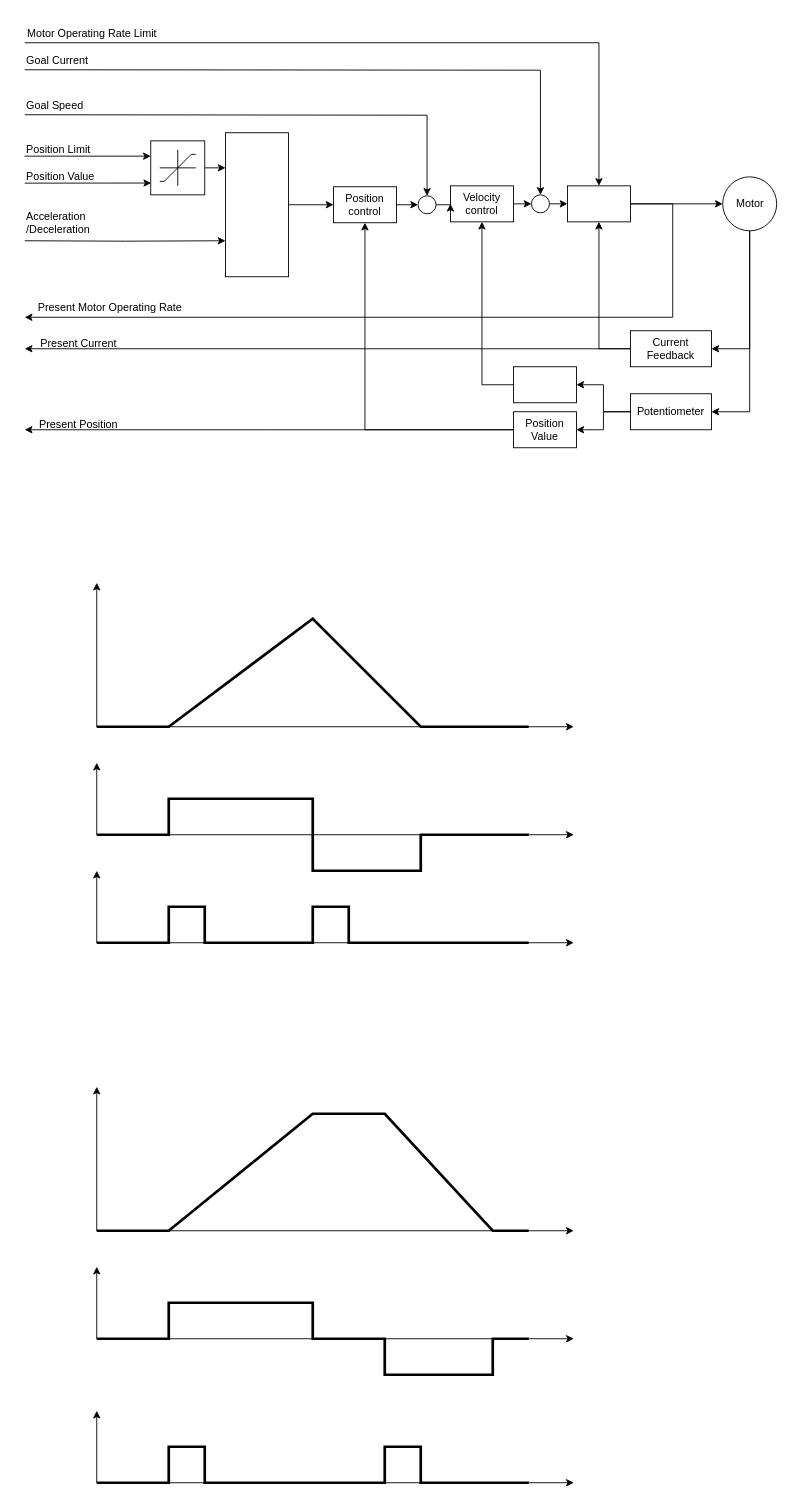
The diagram is 792 pixels wide and 1507 high, and some of its shapes have lost their labels. The shapes that lost their labels are listed below. From the top down, each one's centre as x and y in pixels, then its label:
At point 256,204: "Interpolate Position commnad".
At point 598,203: "Current control".
At point 544,384: "Speed Calcuation".
